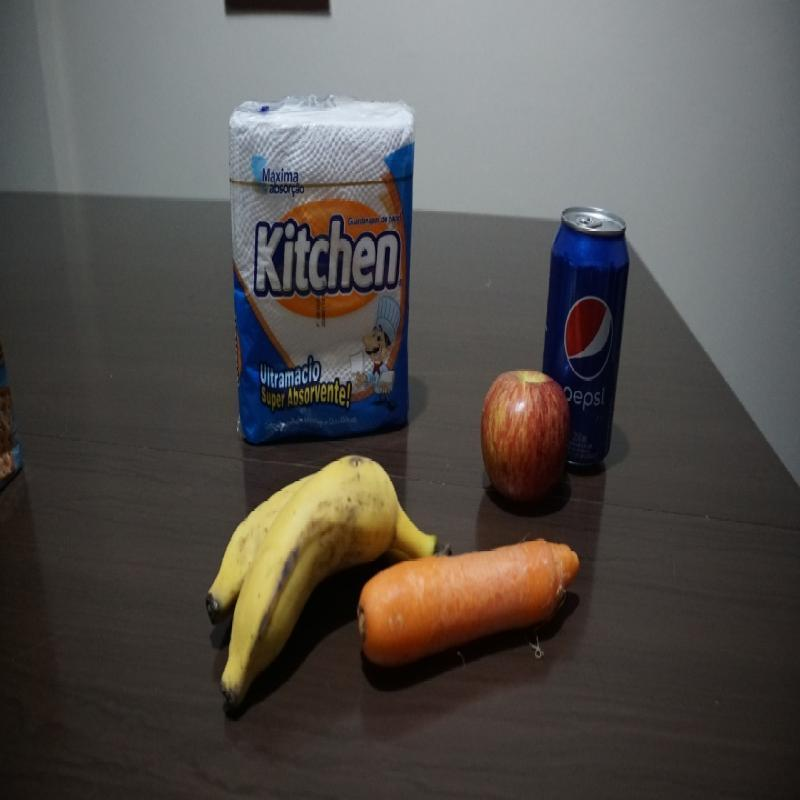Apple: (479, 369, 569, 509)
Banana: (200, 449, 456, 712)
Carrot: (355, 538, 584, 682)
Napkin: (227, 95, 420, 442)
Soda can: (540, 203, 632, 472)
